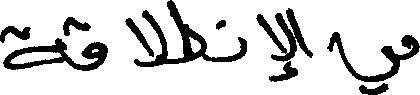X: (336, 27, 398, 94), (0, 16, 65, 74), (258, 3, 294, 86), (168, 0, 205, 68), (128, 5, 166, 71), (84, 17, 105, 75), (296, 16, 309, 80), (401, 30, 419, 64), (240, 32, 245, 63)
